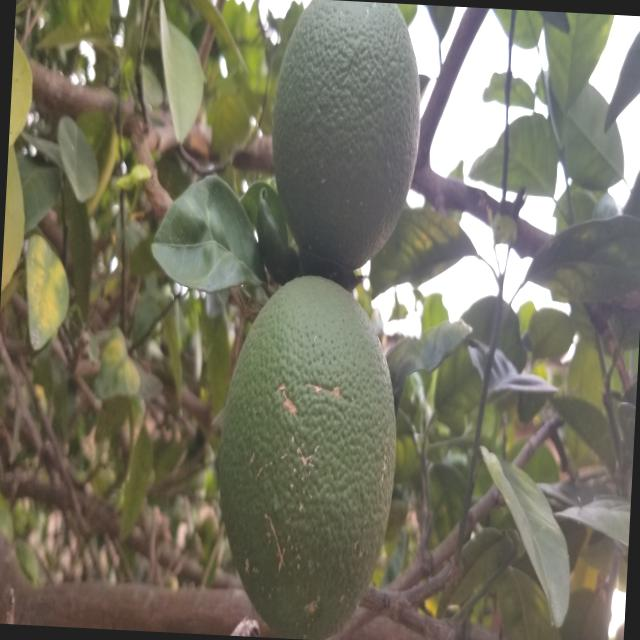Unripe: (193, 278, 416, 640), (255, 0, 428, 289)
